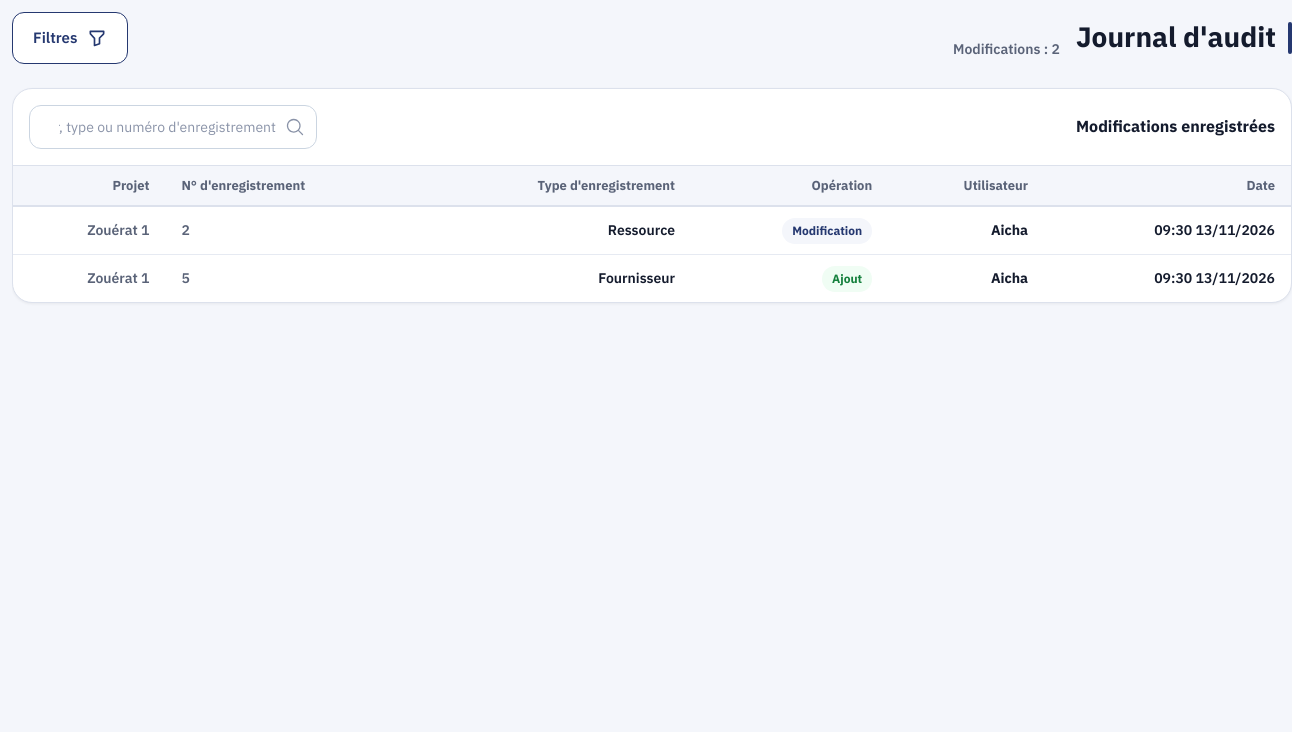
Test case: AuditLogScreen › leaves out the user and project filters when they cannot be loaded
Click the button "Filtres" at point(70, 38), box [12,12,128,64]
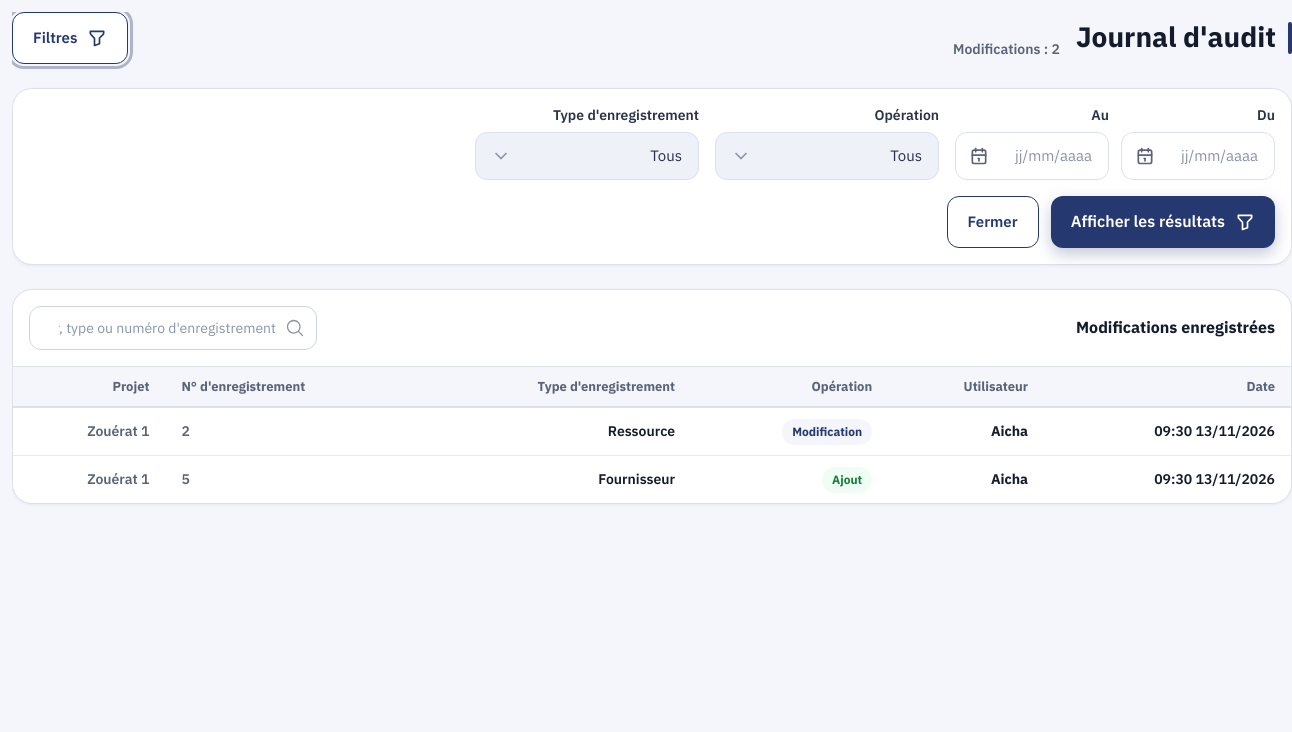
Check: the dropdown labelled "Type d'enregistrement" is shown, box [475,132,699,180]
